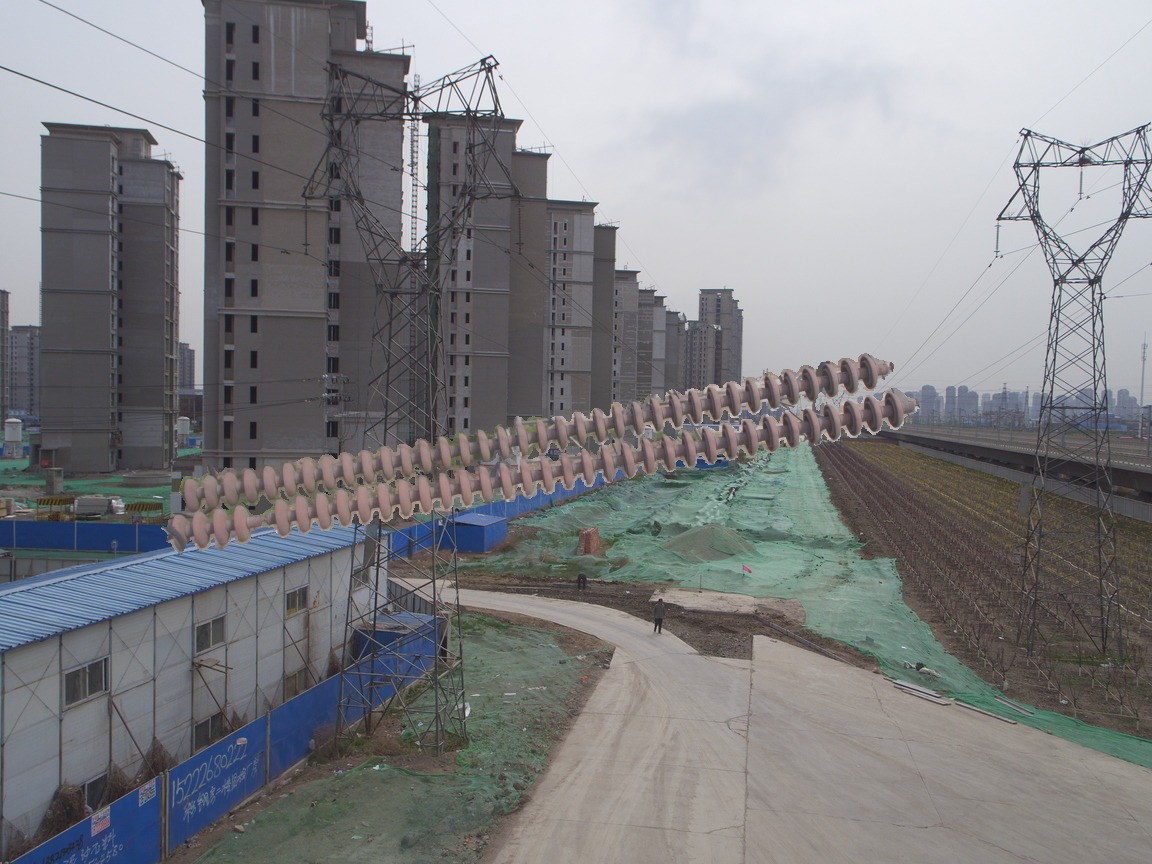defect: (228, 493, 298, 542)
